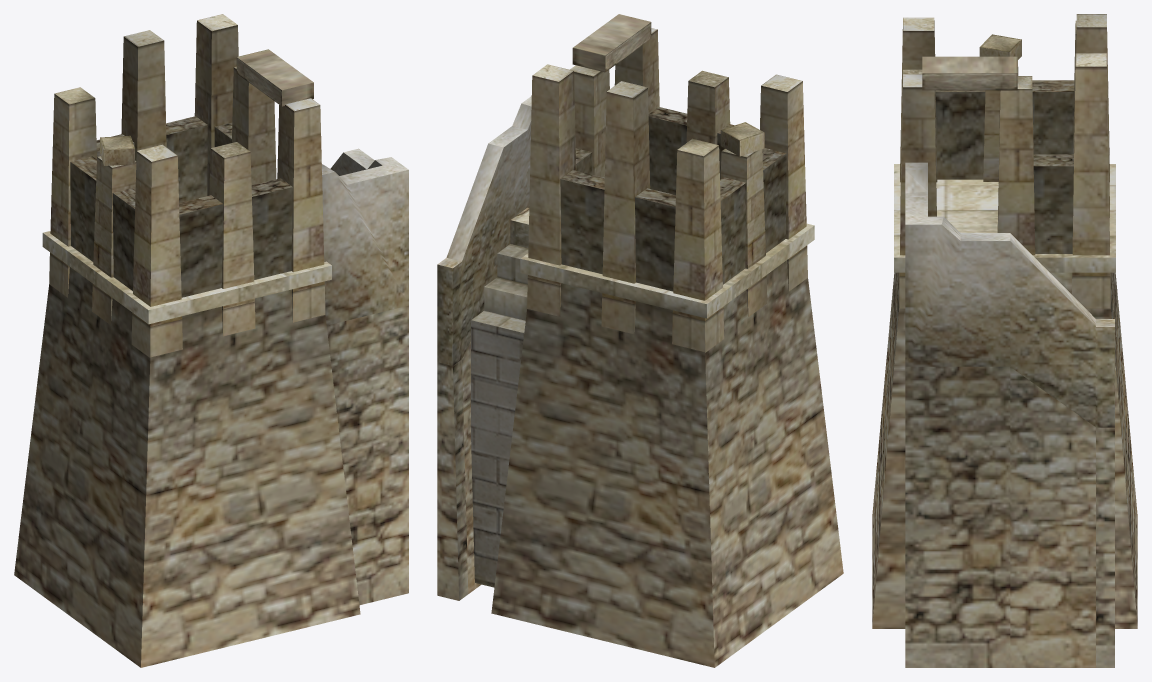
File: fndn_carthaginians_defense_tower.glb
3 renders of one model, left to right at view 1: azimuth 30°, elevation 25°; view 2: azimuth 150°, elevation 25°; view 3: azimuth 270°, elevation 25°, orthographic. The views are drawn at different scales.
Parts seen in each view (by area): view 1: fndn_carthaginians_defense_tower_part0; view 2: fndn_carthaginians_defense_tower_part0; view 3: fndn_carthaginians_defense_tower_part0.
Boxes of the visible parts, x1,y1,x2,y2 form: fndn_carthaginians_defense_tower_part0: [14, 14, 408, 667]; fndn_carthaginians_defense_tower_part0: [437, 14, 843, 667]; fndn_carthaginians_defense_tower_part0: [872, 14, 1137, 667].
Size of the model in its own units: 1.97 by 3.54 by 1.53.
Materials: 1 (1 with a texture image).
